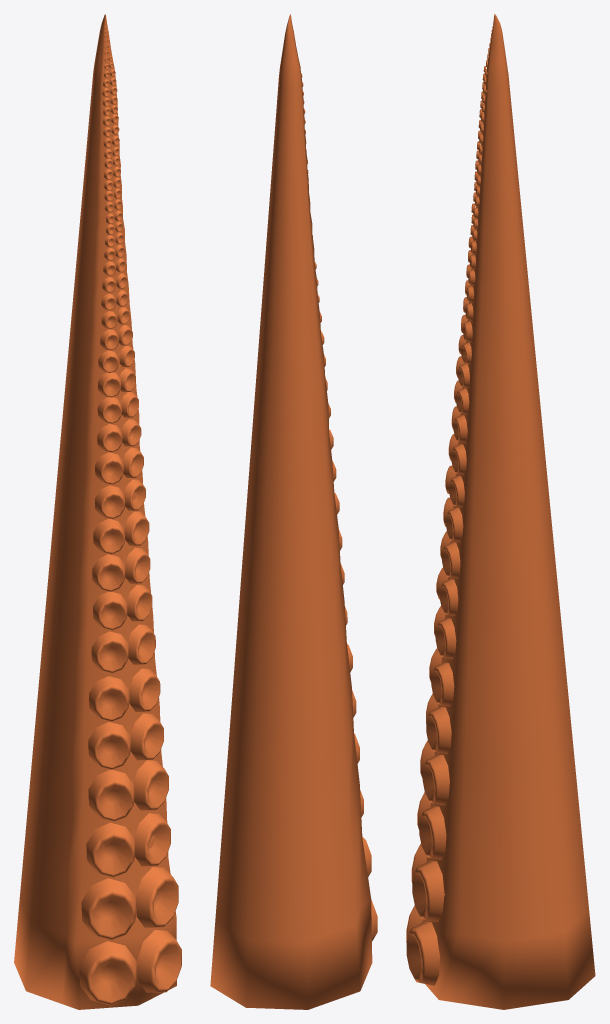
Rendered from tentacle.fbx.
3 renders of one model, left to right at view 1: azimuth 30°, elevation 25°; view 2: azimuth 150°, elevation 25°; view 3: azimuth 270°, elevation 25°, orthographic.
Parts seen in each view (by area): view 1: Tentacle14; view 2: Tentacle14; view 3: Tentacle14.
Part boxes in pixels (box(x1,y1,x2,y2)): Tentacle14: box(14, 14, 181, 1009); Tentacle14: box(210, 14, 377, 1009); Tentacle14: box(406, 14, 595, 1009).
Bounding box in the file's own units: 93.2 × 616 × 109.
